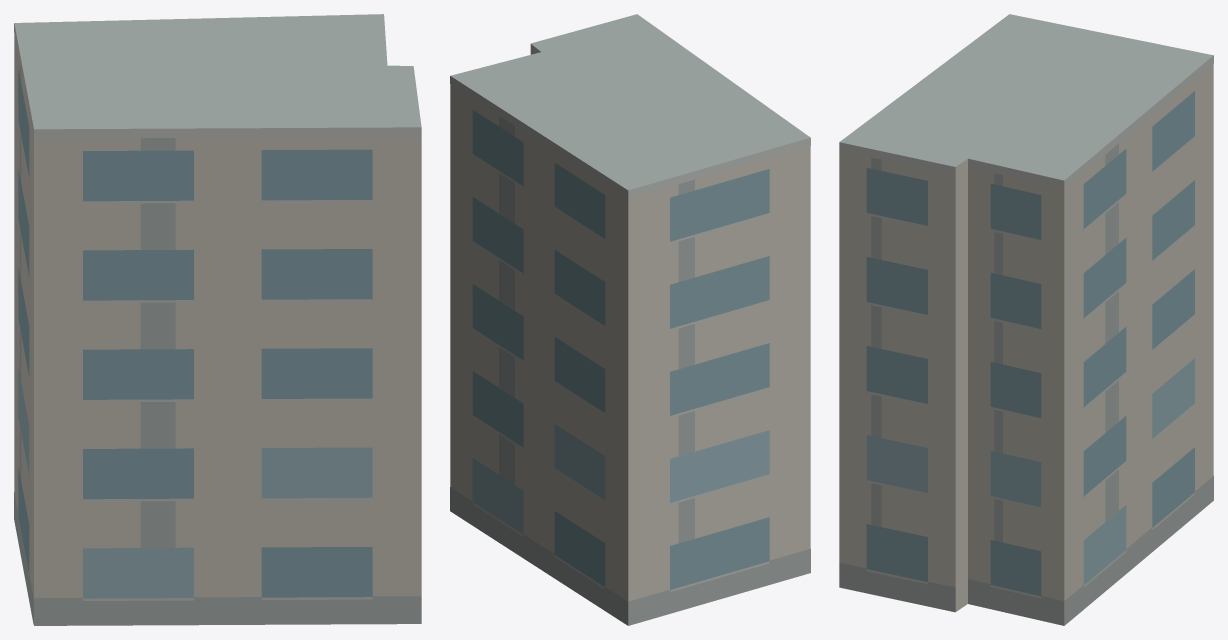
File: survey-upis-32725446.glb
The picture shows the model from 3 angles, left to right: view 1: azimuth 30°, elevation 25°; view 2: azimuth 150°, elevation 25°; view 3: azimuth 270°, elevation 25°; orthographic projection. The views are drawn at different scales.
Visible parts, largest first — view 1: survey-upis-32725446.tmp; view 2: survey-upis-32725446.tmp; view 3: survey-upis-32725446.tmp.
Part boxes in pixels (x1,y1,x2,y2): survey-upis-32725446.tmp: (14, 14, 421, 625); survey-upis-32725446.tmp: (450, 14, 810, 625); survey-upis-32725446.tmp: (839, 14, 1213, 625).
Bounding box in the file's own units: 10.28 × 12.8 × 9.76.
